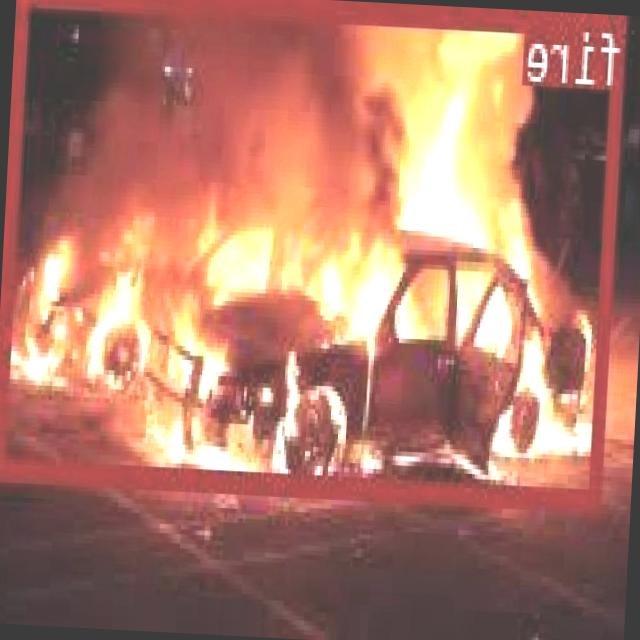fire: (0, 0, 627, 504)
